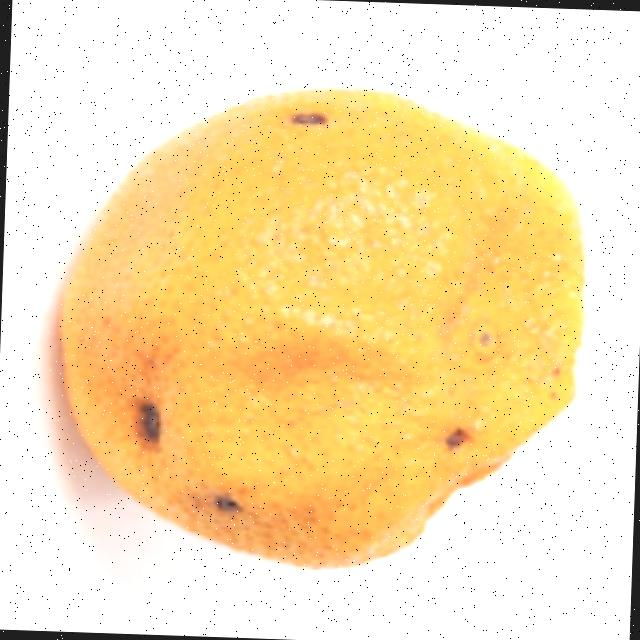overripe: (42, 74, 603, 582)
